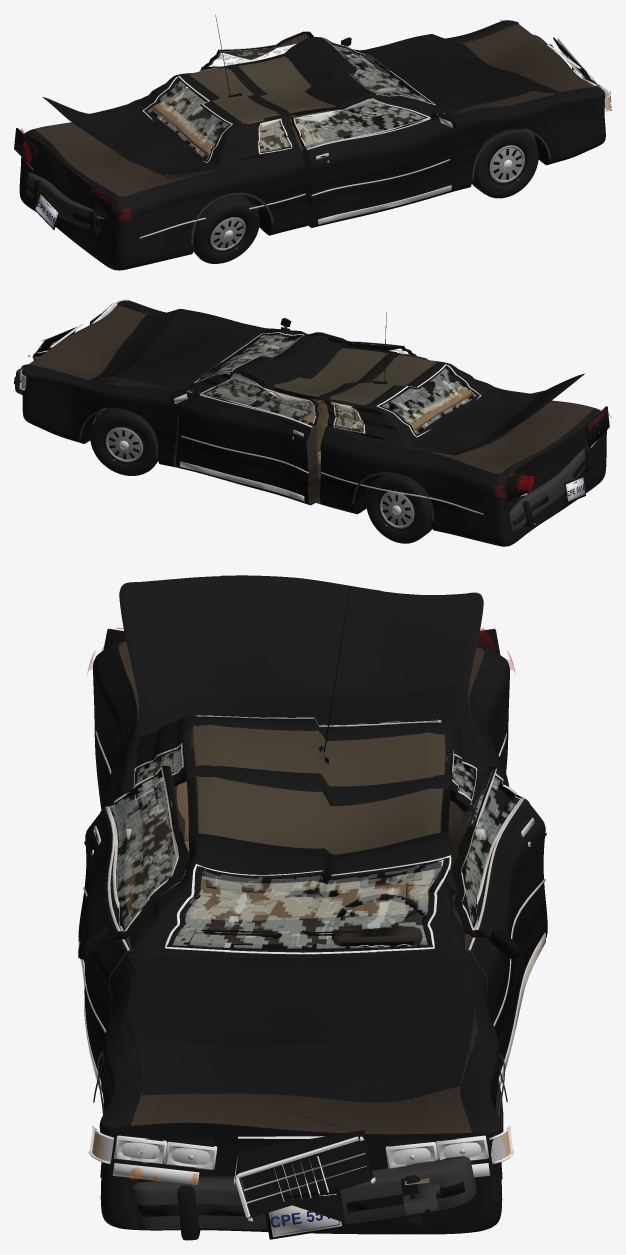
The model's file is coupe84_roll_d1_lod1.glb.
The picture shows the model from 3 angles, top to bottom: view 1: azimuth 30°, elevation 25°; view 2: azimuth 150°, elevation 25°; view 3: azimuth 270°, elevation 25°; orthographic projection. The views are drawn at different scales.
Parts seen in each view (by area): view 1: Body, Door_FR, Hood, Trunk, Interior, Glass, Wheel_FR_mesh, Wheel_RR_mesh, Trim_FR, Ends, Glass_FR, Trim (+3 smaller); view 2: Body, Door_FL, Hood, Trunk, Interior, Glass, Wheel_FL_mesh, Wheel_RL_mesh, Trim_FL, Ends, Bumper_R, Trim (+2 smaller); view 3: Body, Trunk, Hood, Ends, Glass, Interior, Door_FL, Bumper_F, Door_FR, Glass_FR, Trim_FL, Trim_FR (+3 smaller).
Boxes of the visible parts, x1=… form: Body: x1=19, y1=20, x2=605, y2=270; Door_FR: x1=291, y1=97, x2=455, y2=227; Hood: x1=364, y1=34, x2=559, y2=115; Trunk: x1=42, y1=97, x2=216, y2=178; Interior: x1=152, y1=54, x2=422, y2=157; Glass: x1=142, y1=36, x2=435, y2=162; Wheel_FR_mesh: x1=471, y1=128, x2=538, y2=198; Wheel_RR_mesh: x1=193, y1=195, x2=259, y2=263; Trim_FR: x1=293, y1=98, x2=456, y2=224; Ends: x1=14, y1=19, x2=611, y2=229; Glass_FR: x1=293, y1=98, x2=426, y2=150; Trim: x1=139, y1=15, x2=551, y2=244; Body: x1=22, y1=300, x2=606, y2=546; Door_FL: x1=176, y1=372, x2=319, y2=505; Hood: x1=89, y1=309, x2=265, y2=392; Trunk: x1=406, y1=373, x2=584, y2=455; Interior: x1=200, y1=336, x2=471, y2=464; Glass: x1=194, y1=332, x2=481, y2=437; Wheel_FL_mesh: x1=90, y1=407, x2=158, y2=475; Wheel_RL_mesh: x1=366, y1=475, x2=432, y2=543; Trim_FL: x1=170, y1=373, x2=316, y2=501; Ends: x1=19, y1=299, x2=609, y2=503; Bumper_R: x1=509, y1=446, x2=594, y2=531; Trim: x1=79, y1=312, x2=483, y2=521; Body: x1=93, y1=640, x2=509, y2=1234; Trunk: x1=119, y1=575, x2=483, y2=736; Hood: x1=125, y1=955, x2=477, y2=1102; Ends: x1=88, y1=628, x2=514, y2=1239; Glass: x1=134, y1=715, x2=473, y2=954; Interior: x1=171, y1=781, x2=435, y2=947; Door_FL: x1=451, y1=766, x2=547, y2=1078; Bumper_F: x1=131, y1=1156, x2=476, y2=1240; Door_FR: x1=78, y1=765, x2=190, y2=1092; Glass_FR: x1=107, y1=767, x2=180, y2=928; Trim_FL: x1=461, y1=768, x2=546, y2=1086; Trim_FR: x1=78, y1=766, x2=178, y2=1088.
Size of the model in its own units: 5.36 by 1.87 by 2.03.
34 materials, 5 textured.
